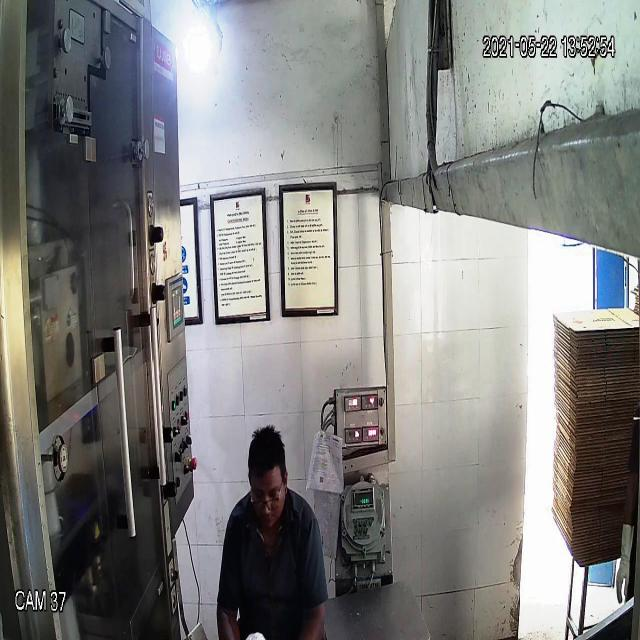glasses: (245, 475, 289, 520)
